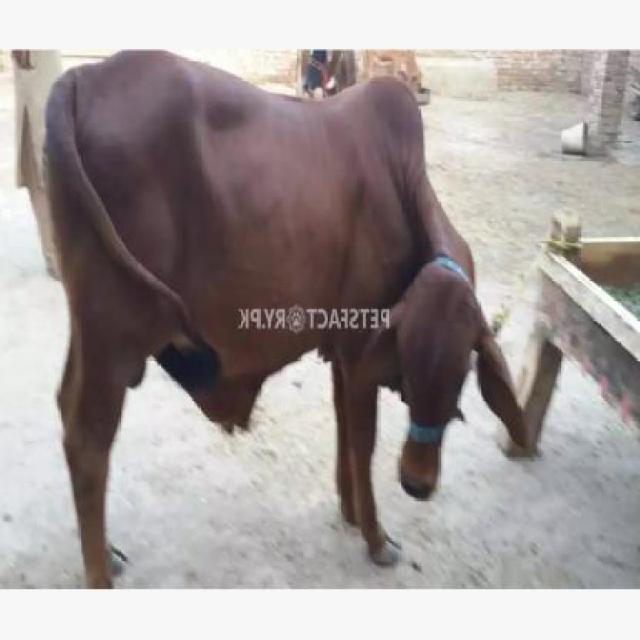Cow: (43, 45, 525, 588)
